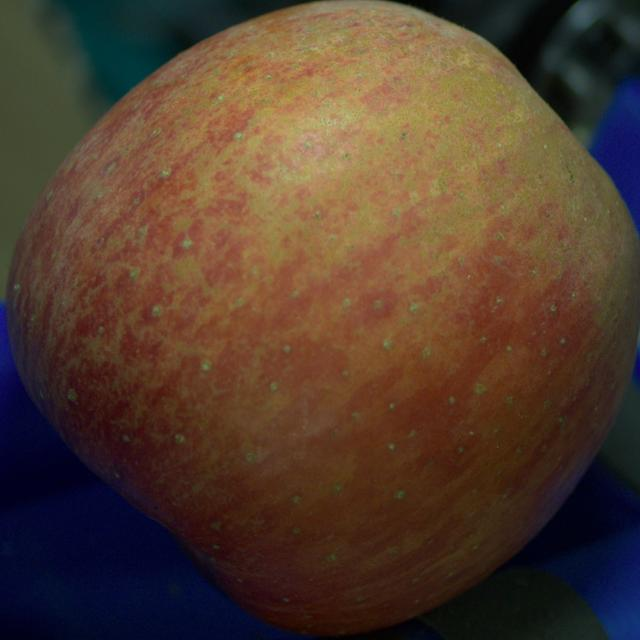apple: (6, 0, 639, 635)
